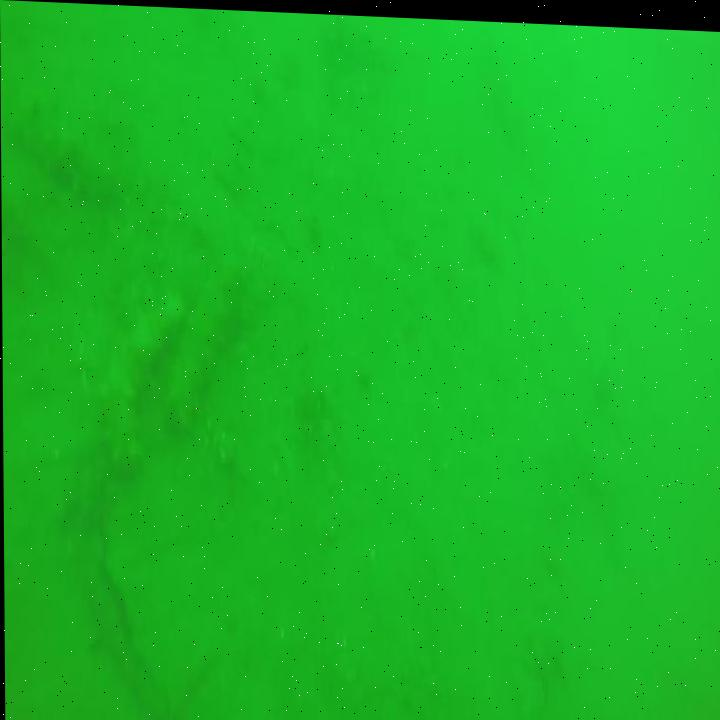holothurian: (95, 277, 185, 478), (165, 255, 251, 434), (7, 86, 109, 194)
